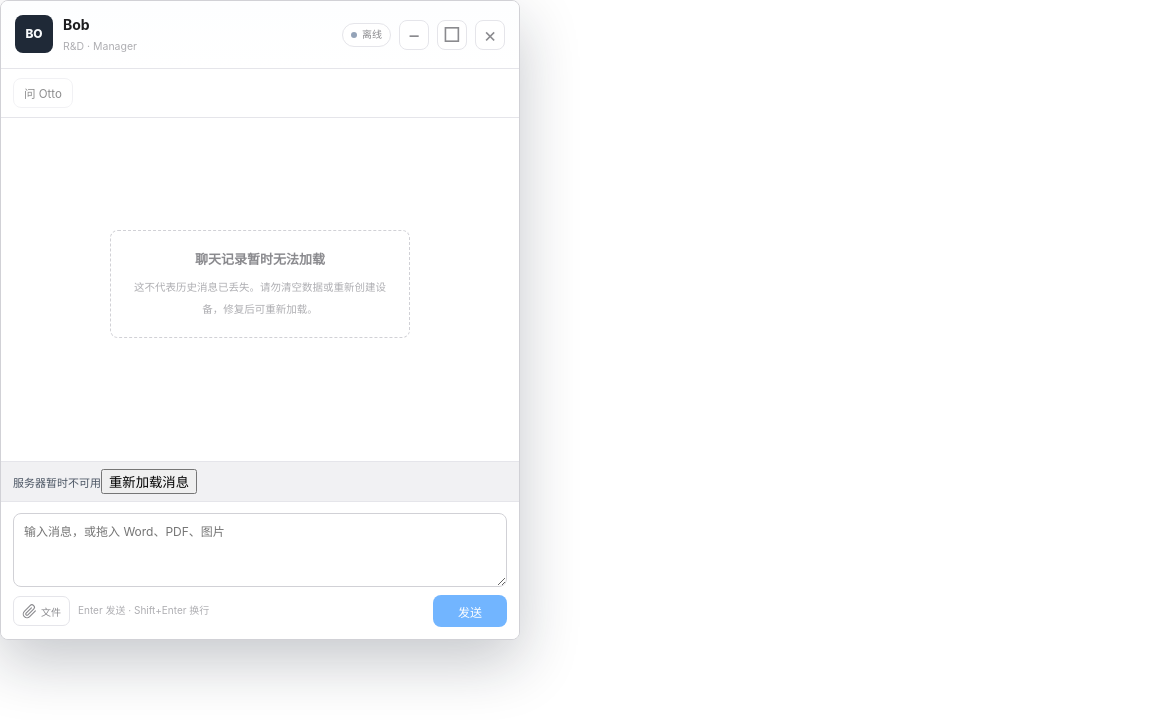
OrganizationTree › keeps the unread reminder when the conversation cannot persist the read state
Expected: the text "服务器暂时不可用" is shown, x1=13 y1=476 x2=101 y2=490
Expected: the text "还没有消息，开始聊聊吧。" is not shown
In the text box: (260, 550) x1=13 y1=513 x2=507 y2=587, type "保留未发送草稿"
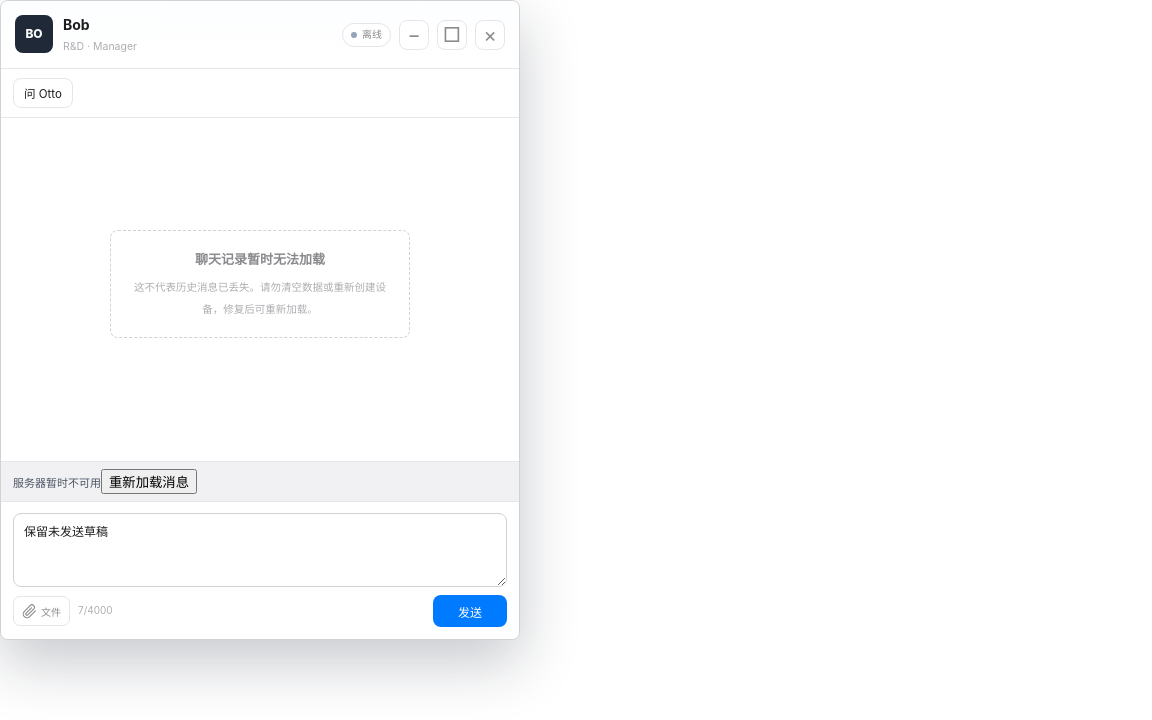
Click the button "重新加载消息": (149, 482) x1=101 y1=469 x2=197 y2=494
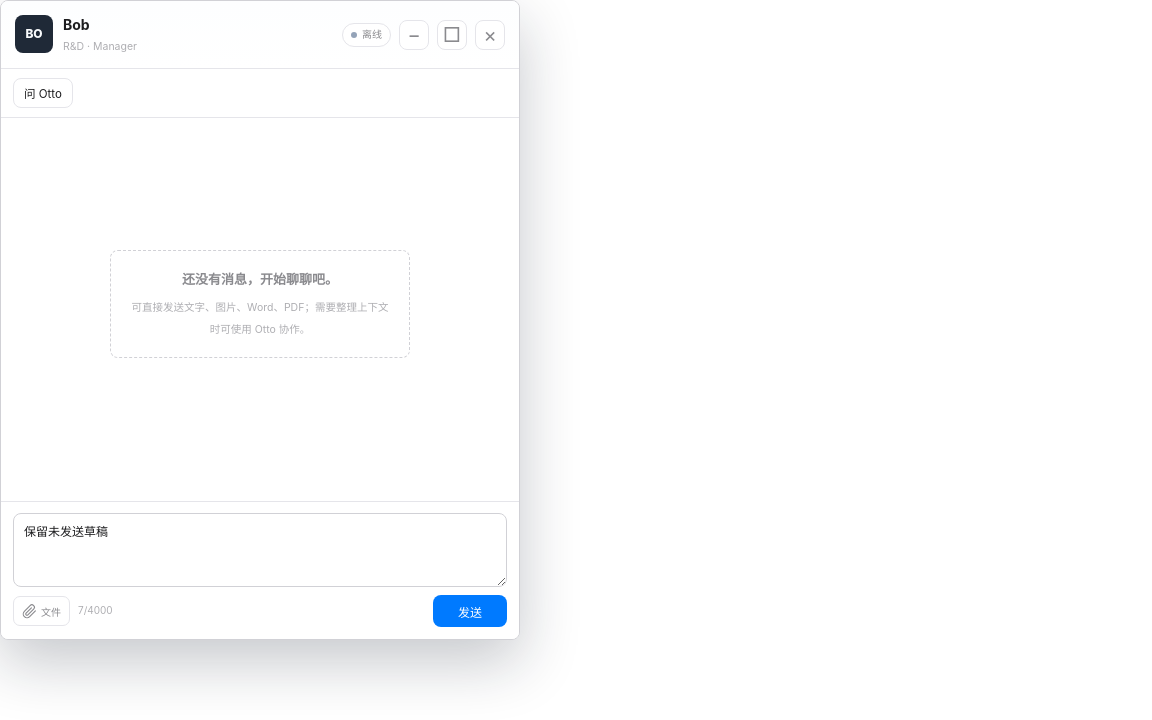
Now the text "还没有消息，开始聊聊吧。" is shown, box x1=182 y1=271 x2=338 y2=287
